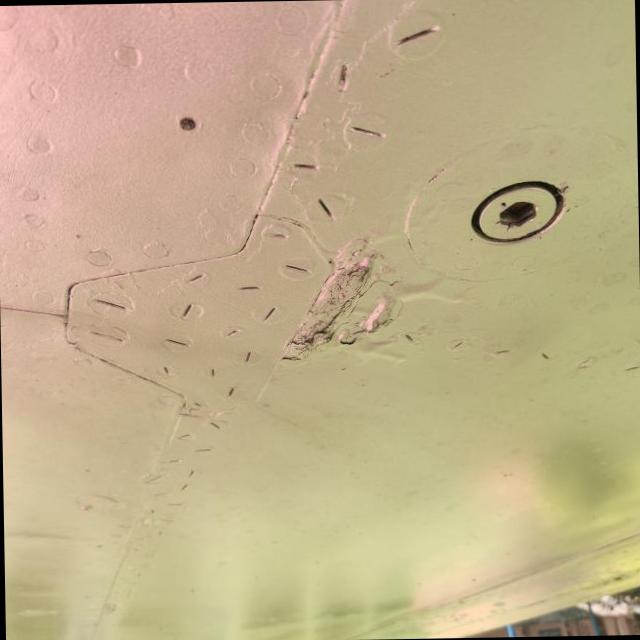Paint-off: (281, 239, 377, 359)
